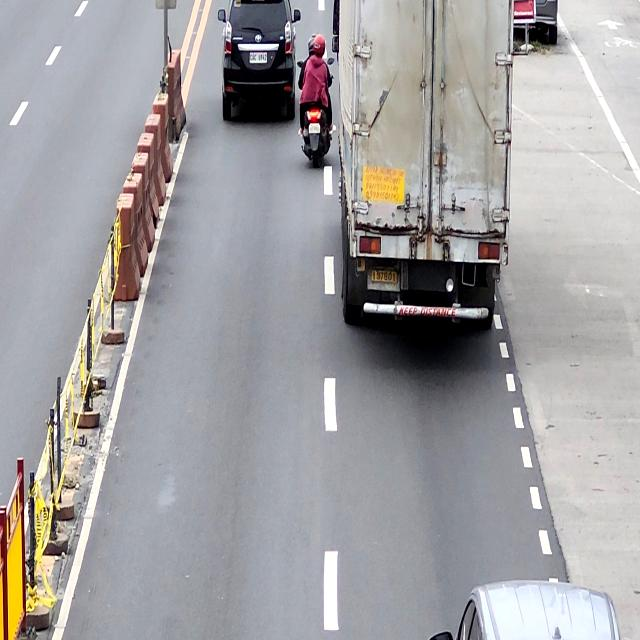Car: (217, 0, 301, 120)
License-Plate: (370, 268, 398, 284), (248, 52, 268, 65), (308, 122, 320, 134)
Motorcycle: (297, 55, 334, 166)
Truck: (333, 0, 515, 331)
